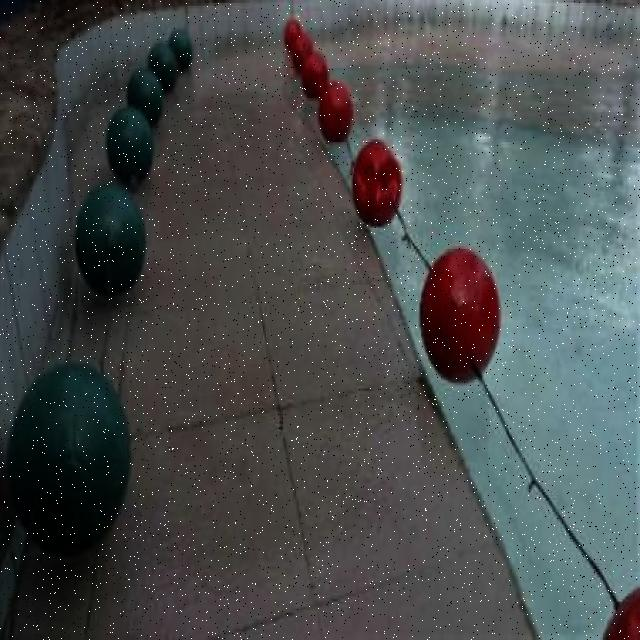buoy: (6, 362, 129, 557), (417, 247, 503, 387), (73, 184, 146, 297), (351, 136, 403, 225), (105, 102, 154, 182), (315, 78, 352, 141), (127, 66, 162, 126), (298, 49, 328, 100), (147, 42, 176, 89), (290, 30, 313, 74), (168, 29, 192, 70)
